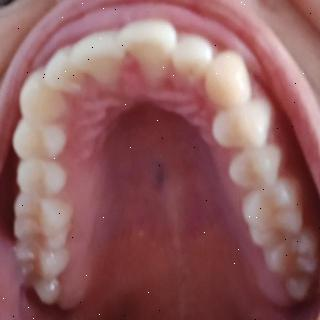maligned: (72, 32, 130, 98), (120, 27, 172, 93), (196, 53, 256, 104), (44, 46, 94, 104), (16, 74, 74, 120), (177, 34, 219, 96)
